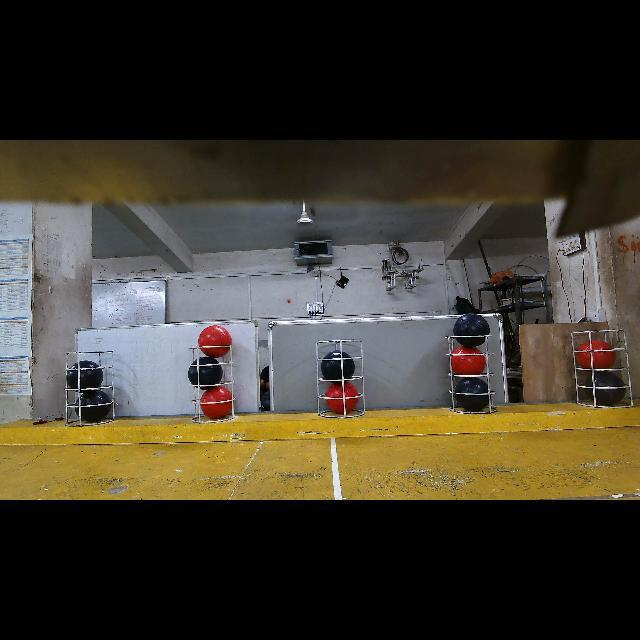P: (585, 371, 626, 406), (74, 389, 113, 423), (452, 314, 490, 348), (187, 359, 225, 390), (456, 376, 489, 411), (66, 360, 104, 390), (321, 350, 355, 383)
R: (580, 340, 615, 373), (198, 325, 232, 358), (326, 382, 359, 414), (201, 386, 233, 419), (452, 345, 485, 377)
S: (570, 329, 634, 409), (444, 333, 498, 415), (64, 350, 116, 428), (186, 345, 237, 423), (316, 339, 366, 418)
